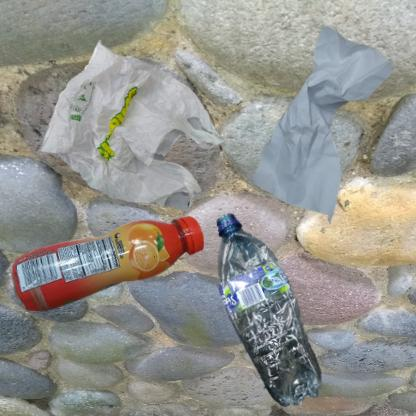bolsa: (10, 10, 261, 269)
botella: (213, 213, 326, 409), (10, 213, 206, 315)
papel: (213, 10, 416, 256)
